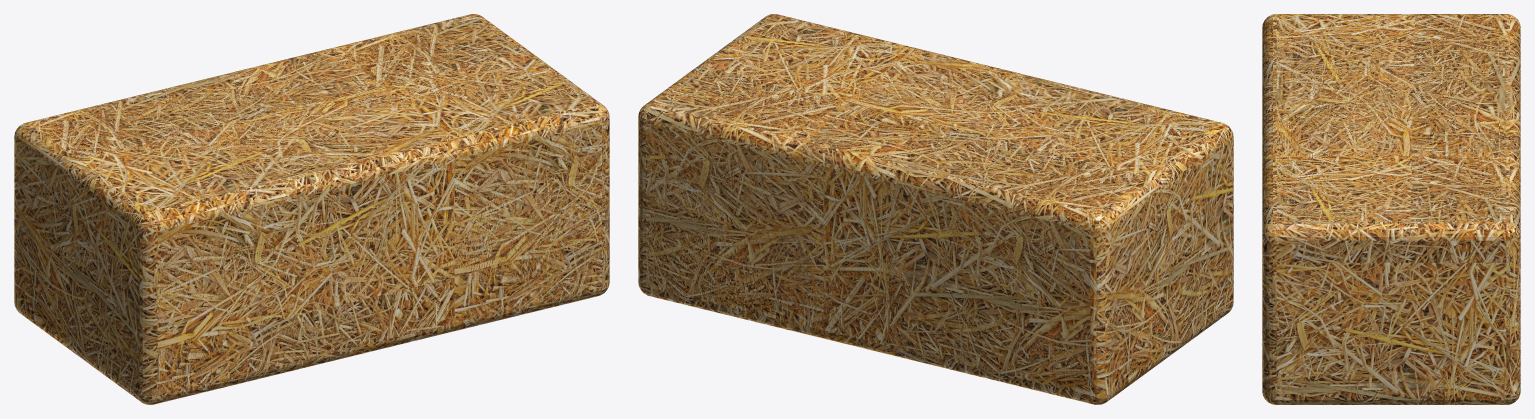
The model's file is straw.dae.
3 views of the same model, side by side, from view 1: azimuth 30°, elevation 25°; view 2: azimuth 150°, elevation 25°; view 3: azimuth 270°, elevation 25° (orthographic). The views are drawn at different scales.
Visible parts, largest first — view 1: Component; view 2: Component; view 3: Component.
Part boxes in pixels (bbox=[...]): Component: bbox=[14, 14, 609, 404]; Component: bbox=[638, 14, 1233, 404]; Component: bbox=[1262, 14, 1520, 404].
Size of the model in its own units: 36 by 18 by 14.
